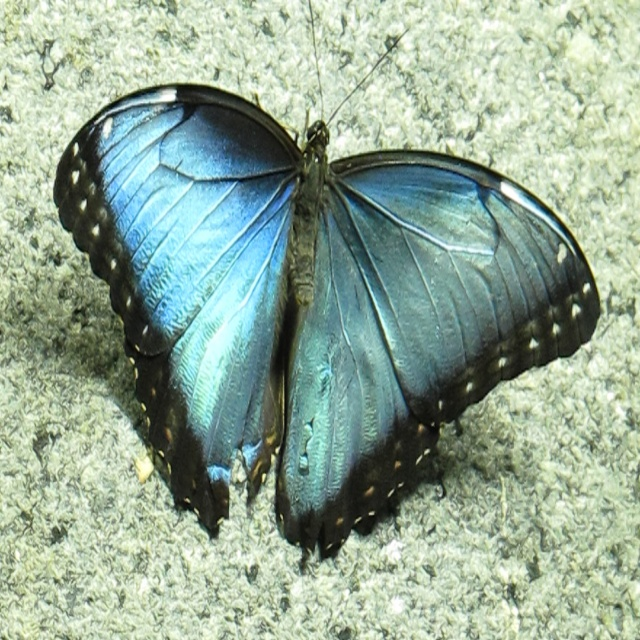Butterfly: (79, 0, 614, 579)
